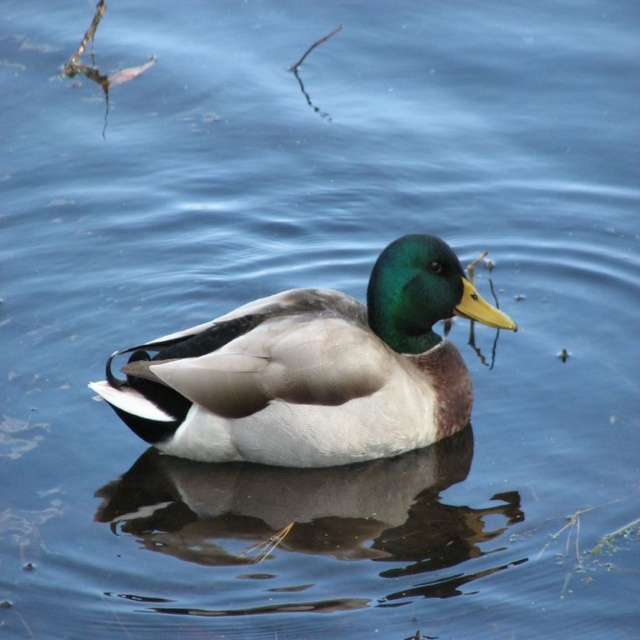Duck: (87, 234, 517, 468)
